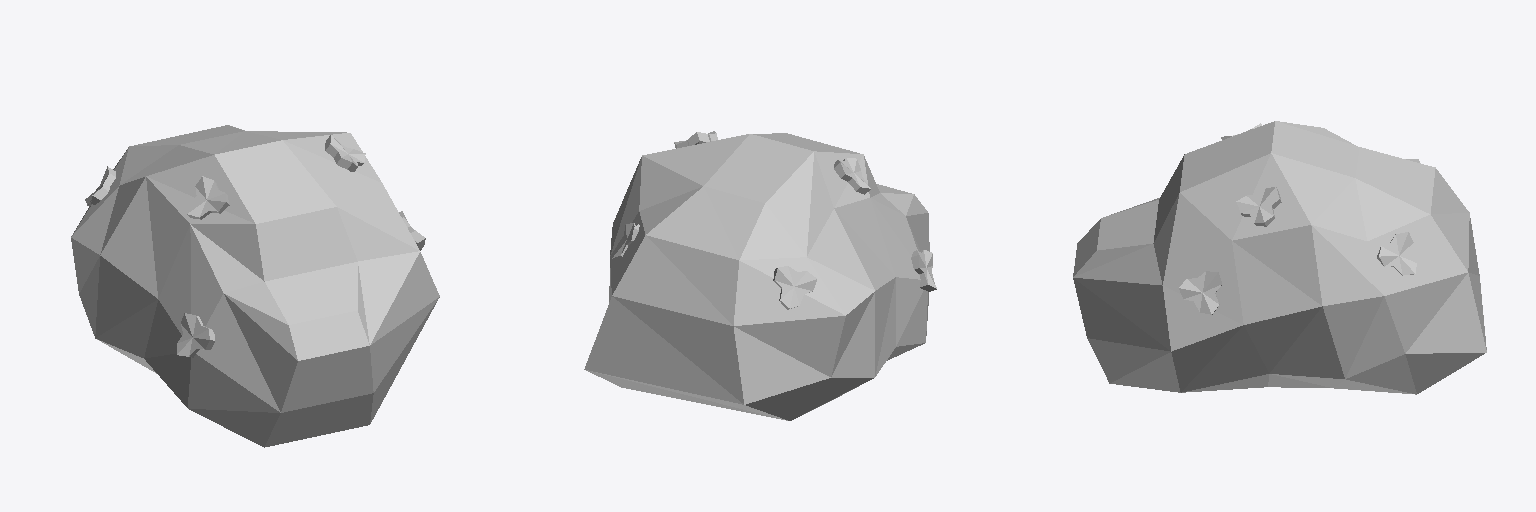
Rendered from buisson_moyen_fleur.obj.
3 views of the same model, side by side, from view 1: azimuth 30°, elevation 25°; view 2: azimuth 150°, elevation 25°; view 3: azimuth 270°, elevation 25° (orthographic).
Visible parts, largest first — view 1: Bushes:medF; view 2: Bushes:medF; view 3: Bushes:medF.
Part boxes in pixels (left/top/right/bottom): Bushes:medF: left=71, top=125, right=439, bottom=447; Bushes:medF: left=584, top=131, right=936, bottom=420; Bushes:medF: left=1073, top=121, right=1486, bottom=394.
Bounding box in the file's own units: 3.36 × 2.72 × 4.49.